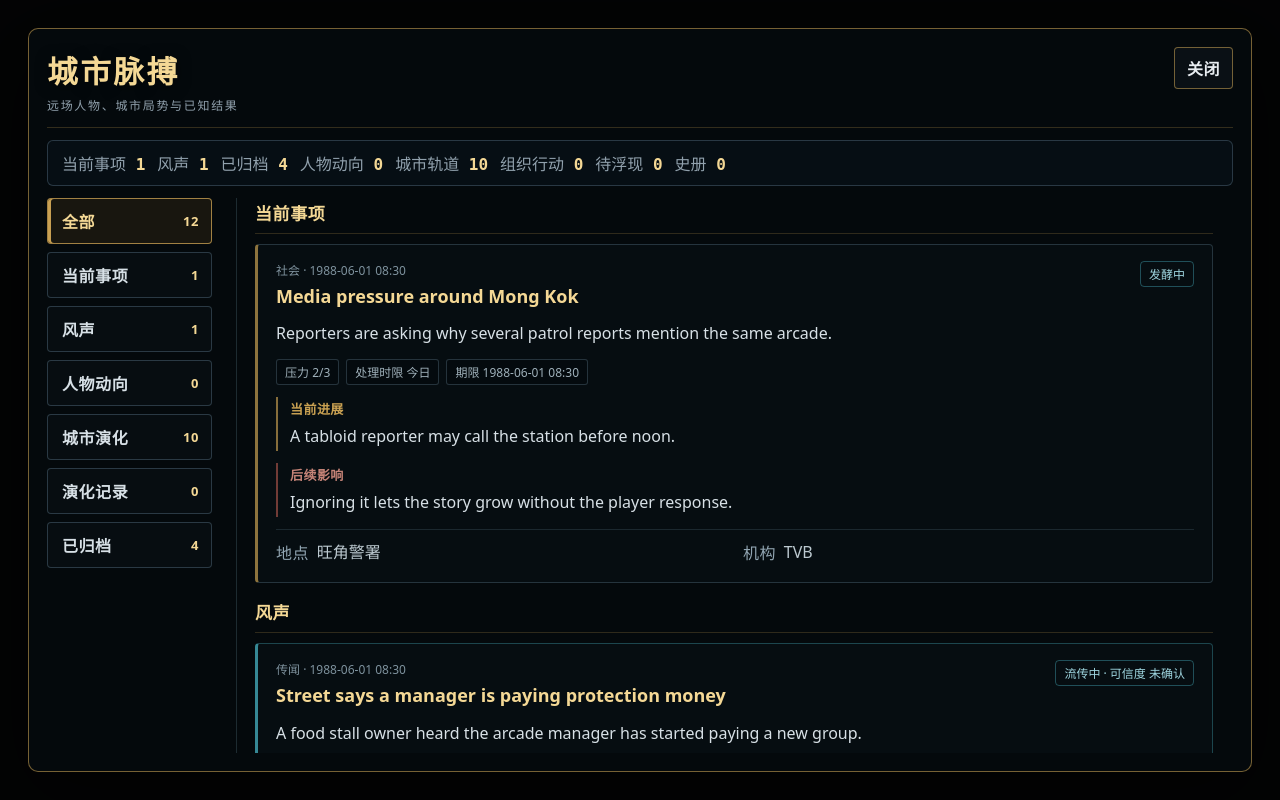
Scenario: DynamicMattersPanelModal › moves stale and locally expired wind signals behind the archived filter
The width and height of the screenshot is (1280, 800).
Click the button "已归档 4" at (130, 545), box top-left (47, 522), bottom-right (212, 568)
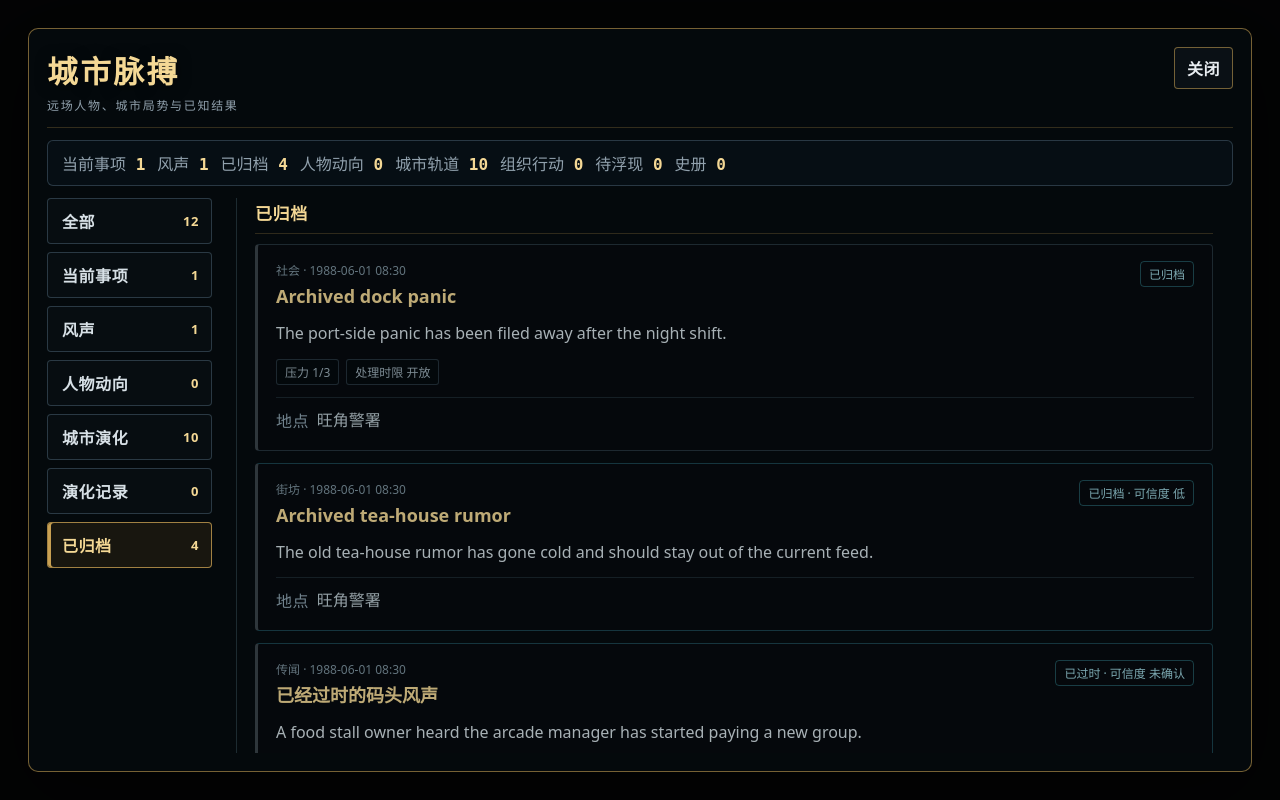
Expected: the dialog shows "已归档", top-left (221, 155), bottom-right (278, 174)
Expected: the dialog shows "已经过时的码头风声", top-left (276, 683), bottom-right (438, 707)
Expected: the dialog shows "已过时", top-left (1064, 665), bottom-right (1100, 682)
